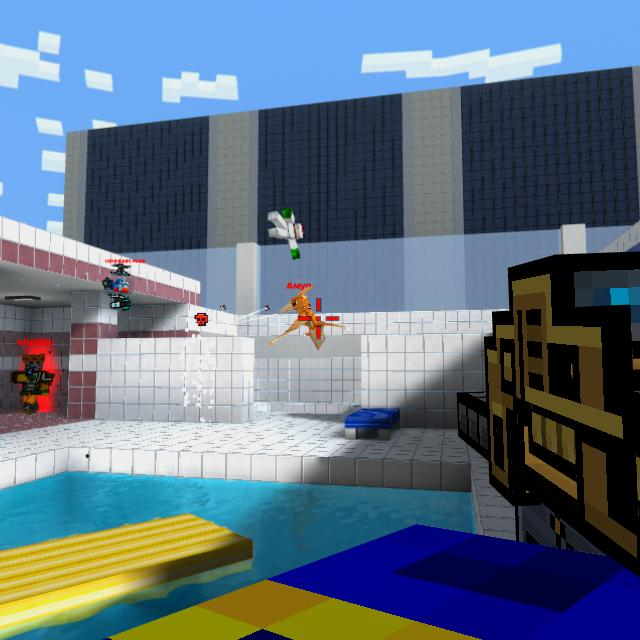Enemy: (10, 355, 55, 415)
